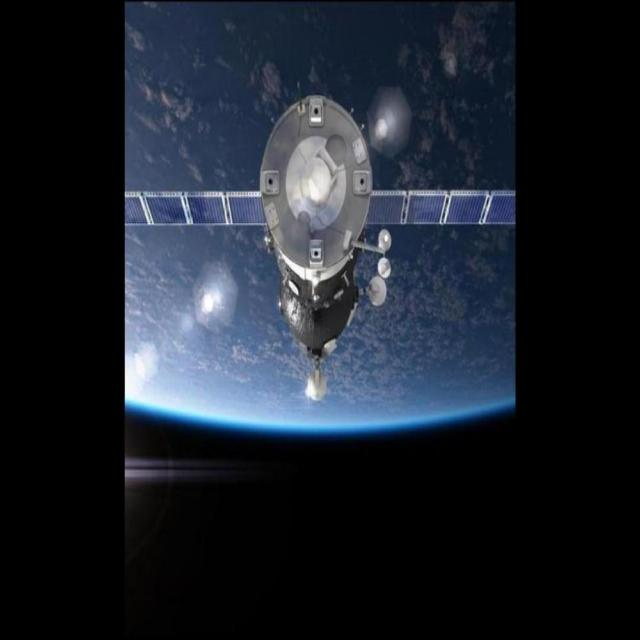medium_debris: (113, 88, 527, 411)
